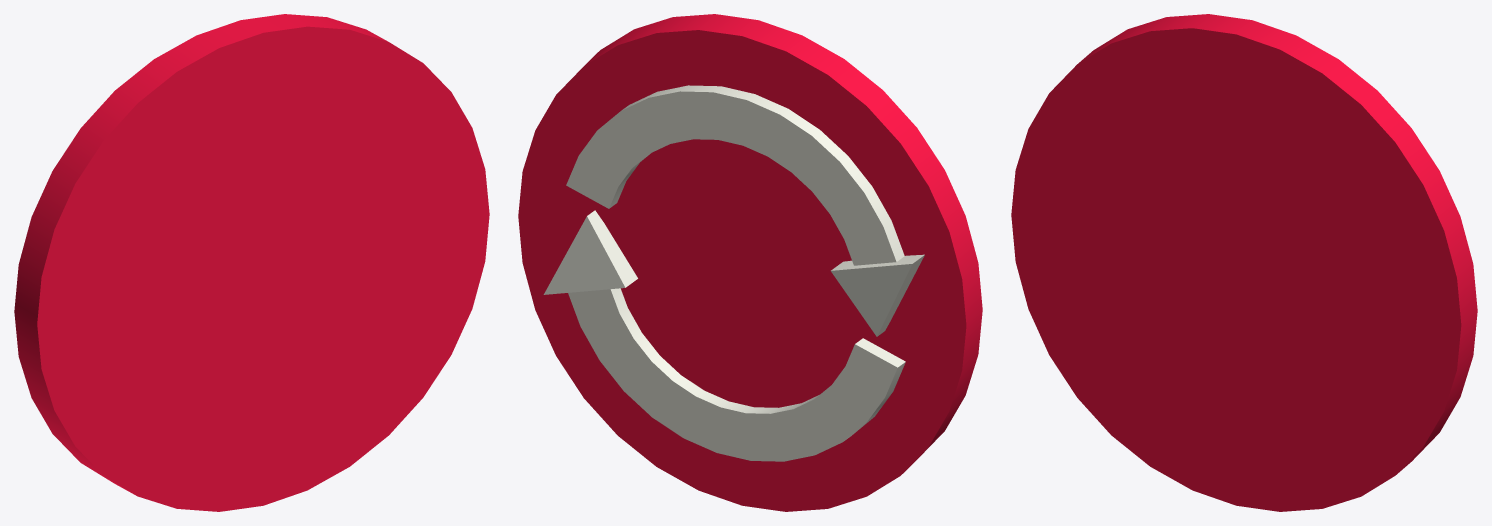
Rendered from refresh_button.glb.
3 views of the same model, side by side, from view 1: azimuth 30°, elevation 25°; view 2: azimuth 150°, elevation 25°; view 3: azimuth 330°, elevation 25° (orthographic).
Parts seen in each view (by area): view 1: refresh_btn; view 2: refresh_btn; view 3: refresh_btn.
Boxes of the visible parts, <box> form: refresh_btn: <box>14,14,489,511</box>; refresh_btn: <box>518,14,982,511</box>; refresh_btn: <box>1011,14,1477,511</box>.
Size of what is drawn, in the model's own units: 1.03 by 1.02 by 0.1279.
Materials: 1 (1 with a texture image).
